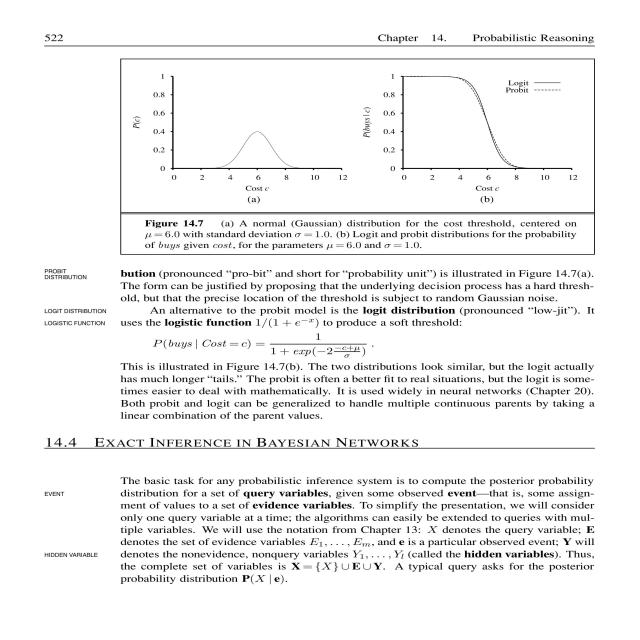diagram: (100, 50, 594, 264)
